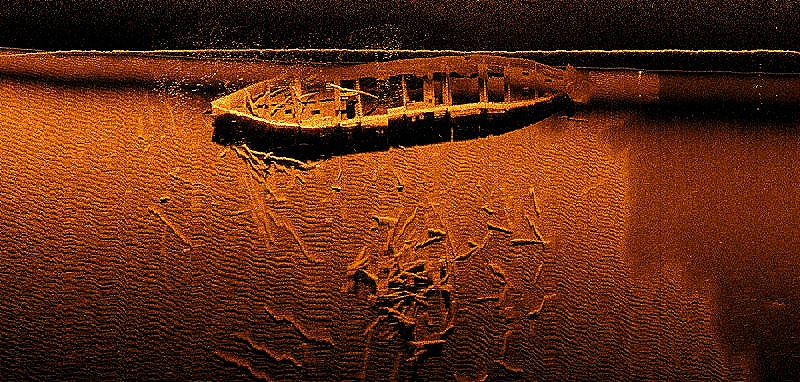ship: (206, 53, 602, 141)
